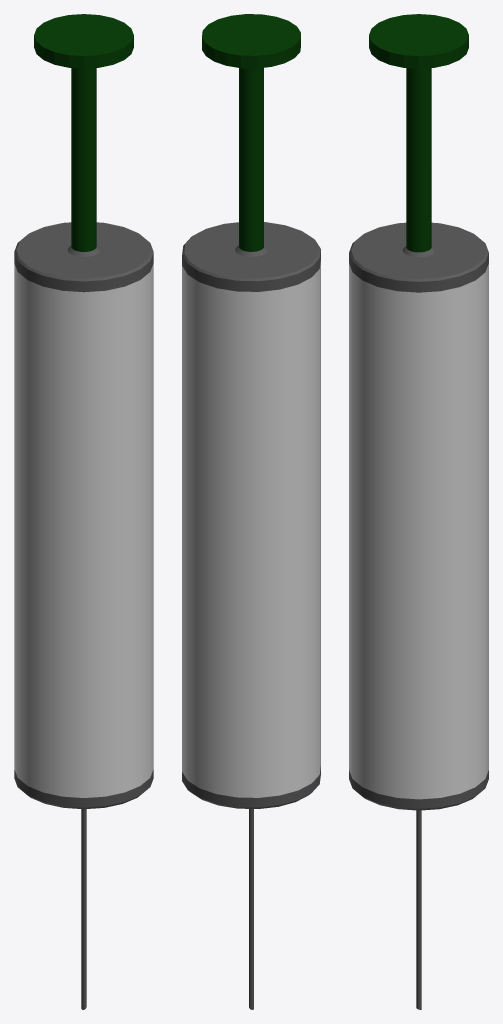
Rendered from syringe.fbx.
3 views of the same model, side by side, from view 1: azimuth 90°, elevation 25°; view 2: azimuth 150°, elevation 25°; view 3: azimuth 270°, elevation 25° (orthographic).
Parts seen in each view (by area): view 1: Syringe; view 2: Syringe; view 3: Syringe.
Part boxes in pixels (box(x1,y1,x2,y2)): Syringe: box(14, 14, 153, 1009); Syringe: box(182, 14, 320, 1009); Syringe: box(349, 14, 488, 1009).
Bounding box in the file's own units: 0.5 × 3.85 × 0.5.
